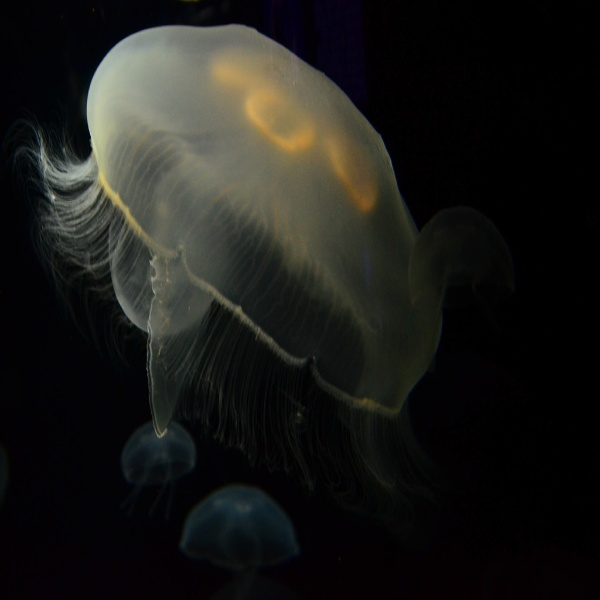Jellyfish: (10, 20, 444, 440)
